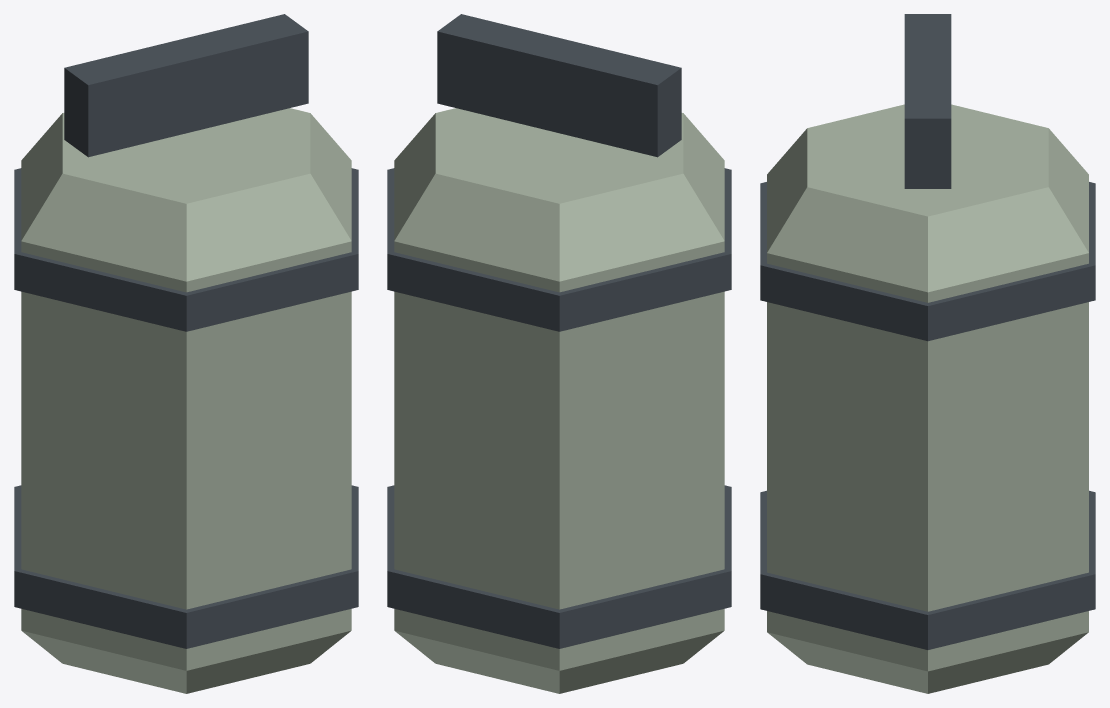
The model's file is SH_PowerCell_01.glb.
The picture shows the model from 3 angles, left to right: view 1: azimuth 30°, elevation 25°; view 2: azimuth 150°, elevation 25°; view 3: azimuth 270°, elevation 25°; orthographic projection. The views are drawn at different scales.
Visible parts, largest first — view 1: SH_PowerCell_01; view 2: SH_PowerCell_01; view 3: SH_PowerCell_01.
Part boxes in pixels (x1,y1,x2,y2): SH_PowerCell_01: [14, 14, 358, 693]; SH_PowerCell_01: [387, 14, 731, 693]; SH_PowerCell_01: [760, 14, 1095, 693].
Size of the model in its own units: 0.25 by 0.405 by 0.2165.
1 material, 1 textured.
